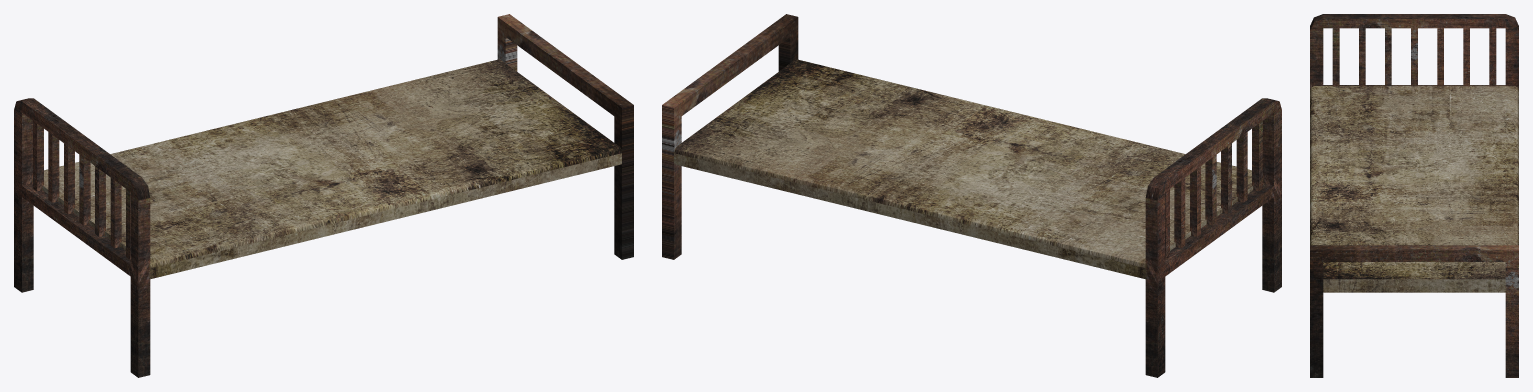
The model's file is bed.glb.
The picture shows the model from 3 angles, left to right: view 1: azimuth 30°, elevation 25°; view 2: azimuth 150°, elevation 25°; view 3: azimuth 270°, elevation 25°; orthographic projection. The views are drawn at different scales.
Visible parts, largest first — view 1: Object_2; view 2: Object_2; view 3: Object_2.
Part boxes in pixels (bbox=[...]): Object_2: bbox=[14, 14, 633, 377]; Object_2: bbox=[662, 14, 1281, 377]; Object_2: bbox=[1310, 14, 1518, 377].
Bounding box in the file's own units: 18.41 × 6.8 × 8.
Materials: 1 (1 with a texture image).
